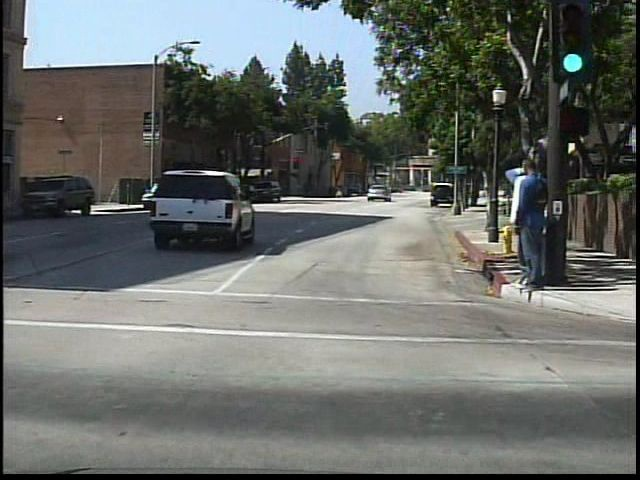person: (498, 159, 536, 293), (513, 154, 546, 295), (334, 181, 346, 198)
